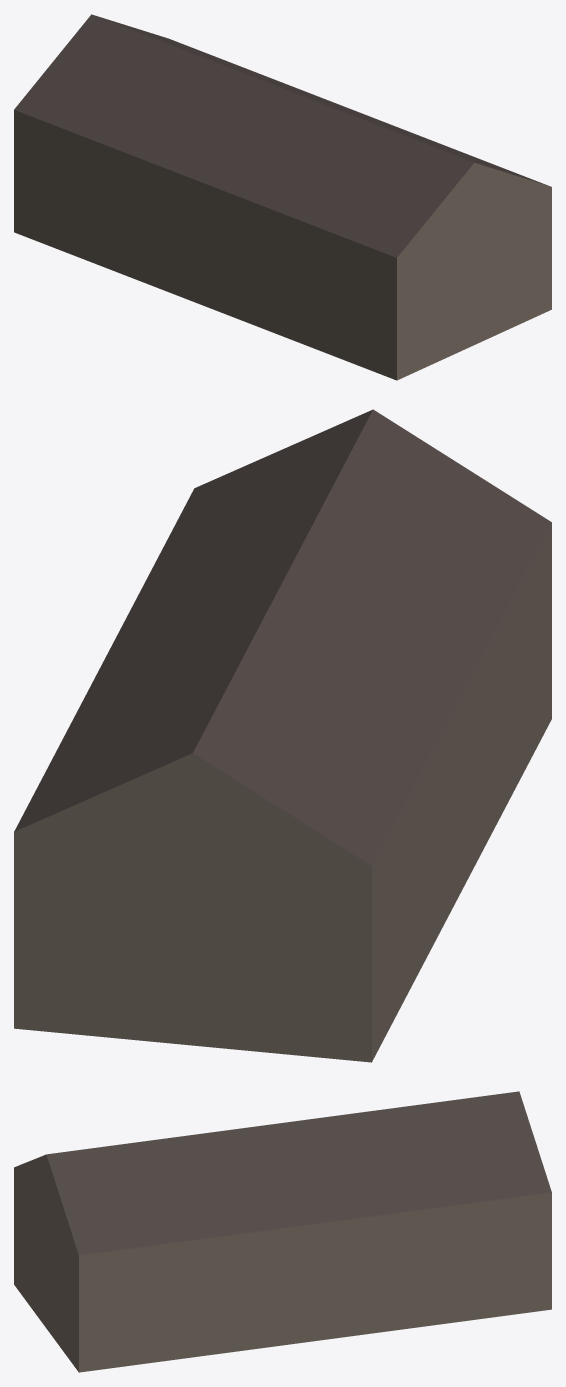
3 views of the same model, one above another, from view 1: azimuth 30°, elevation 25°; view 2: azimuth 150°, elevation 25°; view 3: azimuth 270°, elevation 25° (orthographic). The views are drawn at different scales.
Visible parts, largest first — view 1: HP-w859457309; view 2: HP-w859457309; view 3: HP-w859457309.
Boxes of the visible parts, <box> form: HP-w859457309: <box>14,14,551,380</box>; HP-w859457309: <box>14,409,551,1062</box>; HP-w859457309: <box>14,1091,551,1372</box>.
Size of the model in its own units: 16.61 by 8.93 by 24.99.
